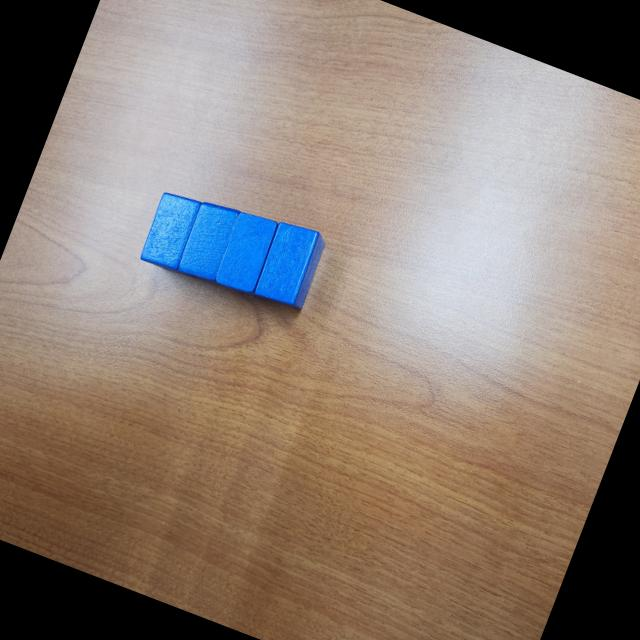blue: (250, 218, 330, 316), (212, 208, 281, 300), (174, 196, 242, 288), (137, 189, 203, 275)
